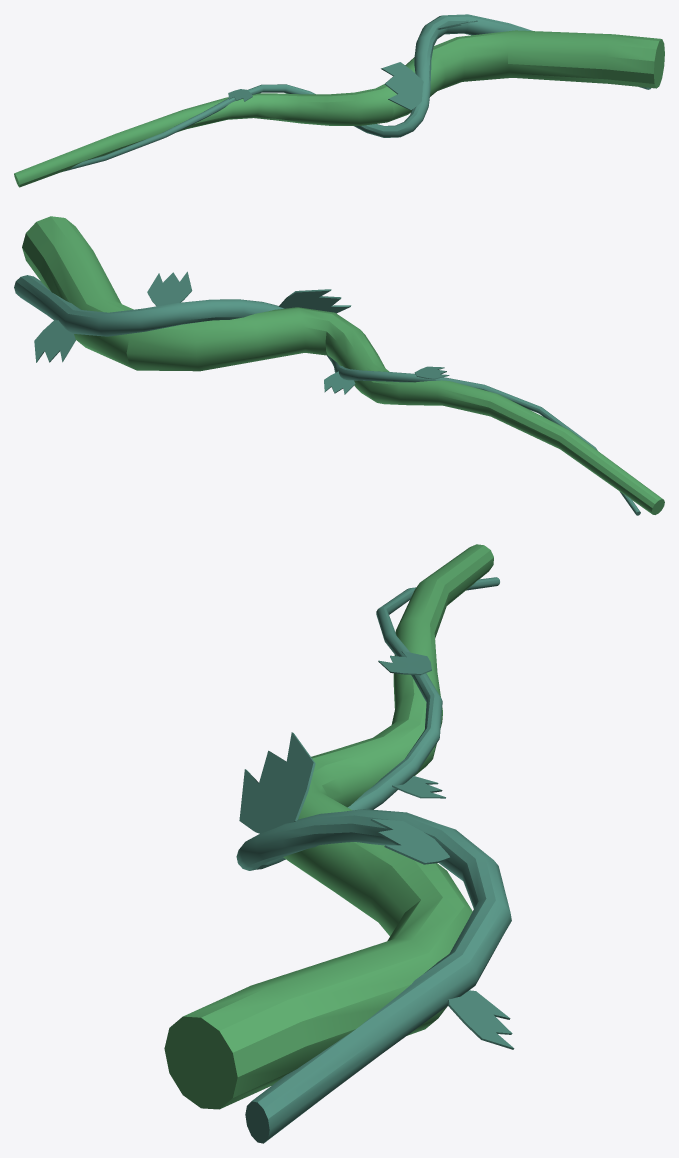
File: A_Vine.fbx
The picture shows the model from 3 angles, top to bottom: view 1: azimuth 30°, elevation 25°; view 2: azimuth 150°, elevation 25°; view 3: azimuth 270°, elevation 25°; orthographic projection. The views are drawn at different scales.
Parts seen in each view (by area): view 1: pCylinder1, pCylinder2, pCube4; view 2: pCylinder1, pCylinder2, pCube1, pCube3, pCube4; view 3: pCylinder1, pCylinder2, pCube4, pCube1, pCube3, pCube6.
Part boxes in pixels (x1=…): pCylinder1: x1=14, y1=30, x2=664, y2=187; pCylinder2: x1=62, y1=14, x2=651, y2=171; pCube4: x1=381, y1=62, x2=423, y2=110; pCylinder1: x1=22, y1=216, x2=664, y2=514; pCylinder2: x1=14, y1=275, x2=640, y2=515; pCube1: x1=34, y1=320, x2=75, y2=362; pCube3: x1=147, y1=271, x2=192, y2=306; pCube4: x1=279, y1=289, x2=351, y2=313; pCylinder1: x1=164, y1=544, x2=493, y2=1109; pCylinder2: x1=236, y1=577, x2=511, y2=1143; pCube4: x1=239, y1=732, x2=315, y2=833; pCube1: x1=447, y1=990, x2=514, y2=1049; pCube3: x1=370, y1=819, x2=450, y2=864; pCube6: x1=378, y1=651, x2=431, y2=675.
Bounding box in the file's own units: 20.21 × 2.72 × 5.19.
